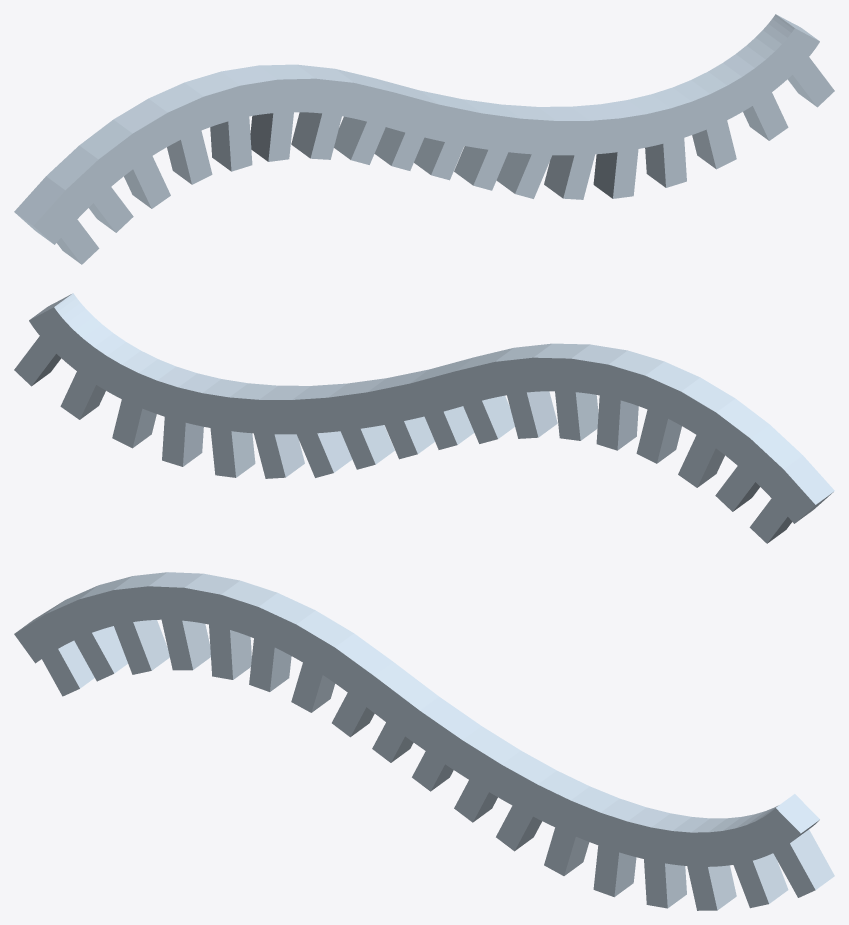
The model's file is mrna-strand.gltf.
The picture shows the model from 3 angles, top to bottom: view 1: azimuth 30°, elevation 25°; view 2: azimuth 150°, elevation 25°; view 3: azimuth 330°, elevation 25°; orthographic projection.
Parts seen in each view (by area): view 1: 000_Path; view 2: 000_Path; view 3: 000_Path.
Part boxes in pixels (<box>): 000_Path: <box>14,14,834,264</box>; 000_Path: <box>14,293,834,543</box>; 000_Path: <box>14,572,834,910</box>.
Bounding box in the file's own units: 105 × 25.96 × 4.4.
